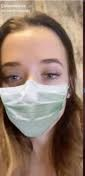with_mask: (1, 16, 83, 145)
